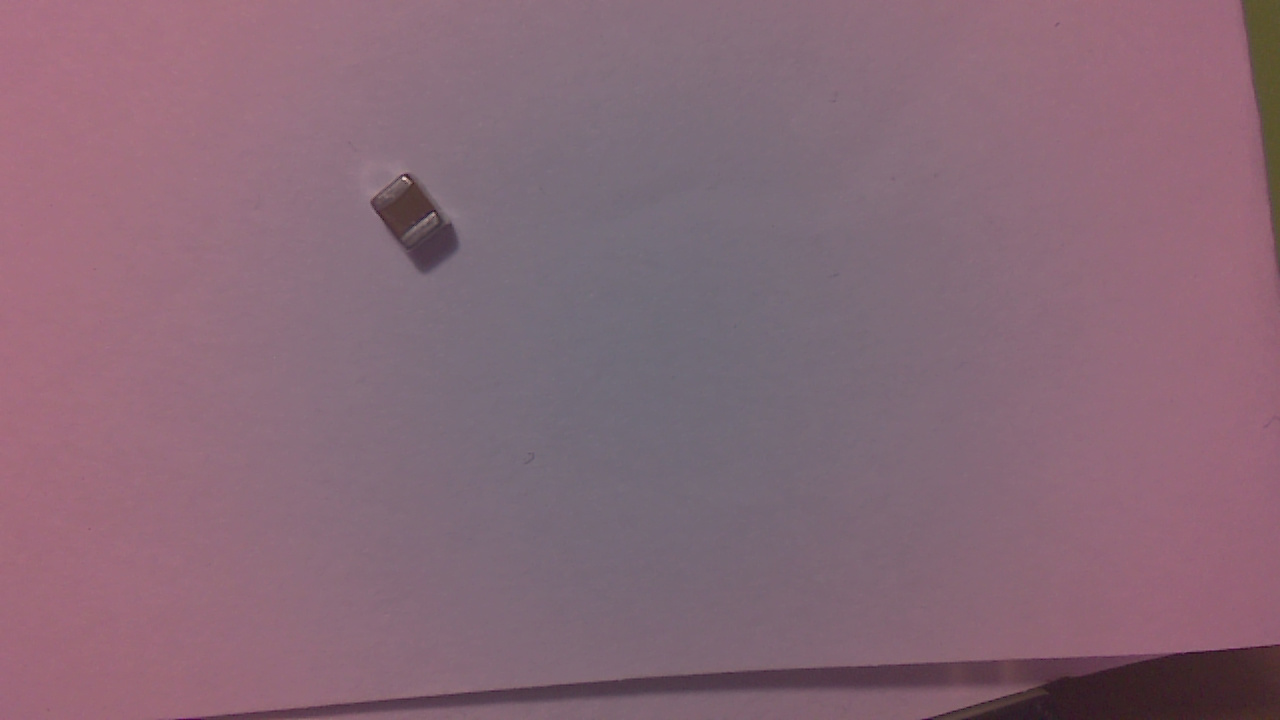Condensator: (376, 176, 480, 254)
